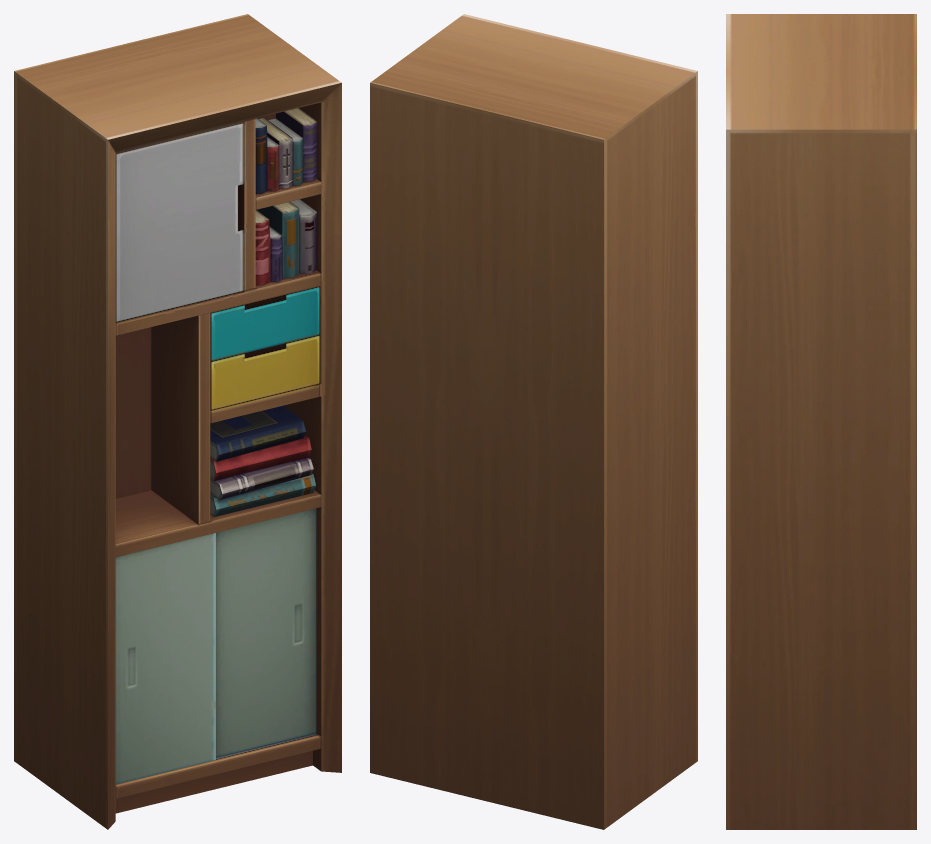
Rendered from home_bookcase.glb.
The picture shows the model from 3 angles, left to right: view 1: azimuth 30°, elevation 25°; view 2: azimuth 150°, elevation 25°; view 3: azimuth 270°, elevation 25°; orthographic projection.
Visible parts, largest first — view 1: TinyLiving_PowerTowerBookcase, s4studio_mesh_1.002; view 2: TinyLiving_PowerTowerBookcase; view 3: TinyLiving_PowerTowerBookcase.
Boxes of the visible parts, x1,y1,x2,y2 form: TinyLiving_PowerTowerBookcase: (14,14,341,829); s4studio_mesh_1.002: (115,508,316,783); TinyLiving_PowerTowerBookcase: (370,14,697,829); TinyLiving_PowerTowerBookcase: (726,14,916,829).
Bounding box in the file's own units: 0.85 × 2.4 × 0.5916.
Materials: 2 (2 with a texture image).
